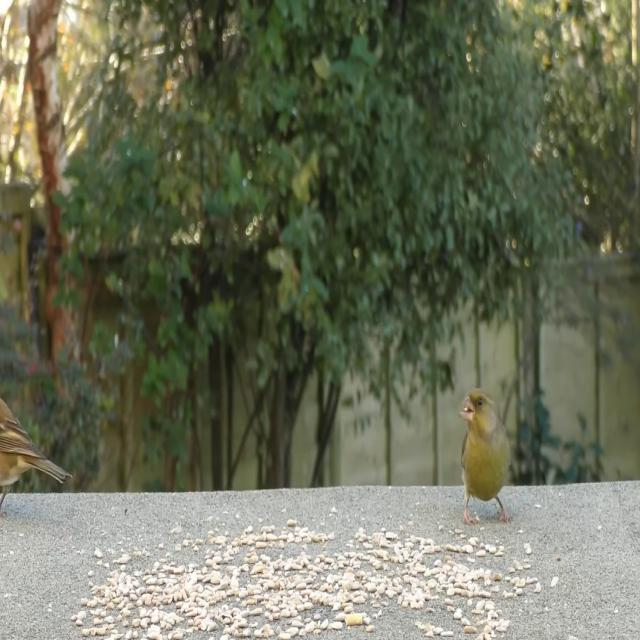beak: (456, 395, 477, 428)
bird: (0, 394, 65, 531), (458, 388, 513, 528)
